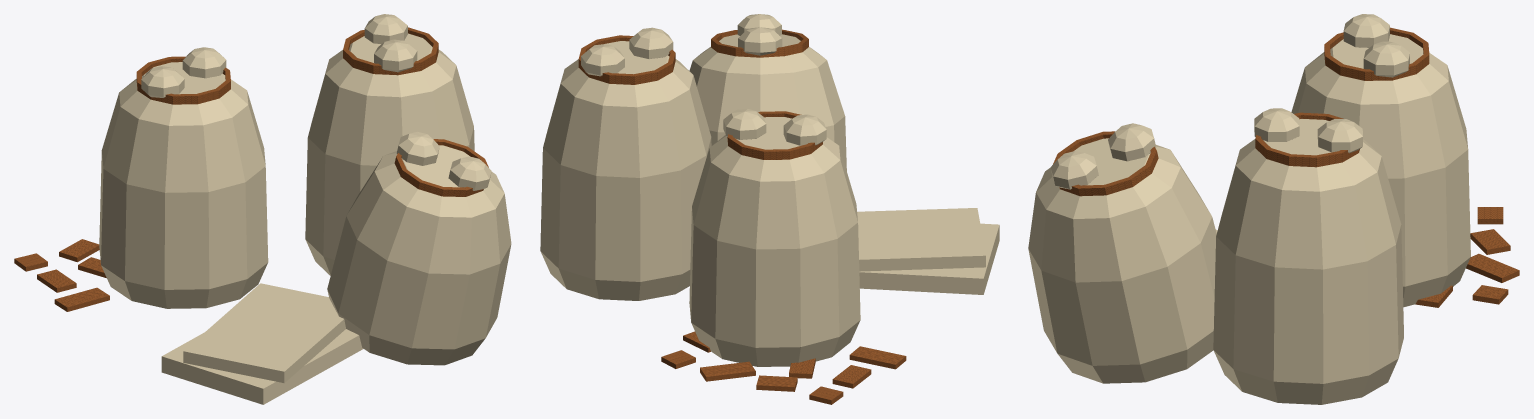
File: distillery-and-bonded-warehouse-grain-sacks-b5e3e1b8__38671.glb
3 views of the same model, side by side, from view 1: azimuth 30°, elevation 25°; view 2: azimuth 150°, elevation 25°; view 3: azimuth 270°, elevation 25° (orthographic). The views are drawn at different scales.
Parts seen in each view (by area): view 1: grain-sacks-hessian, grain-sacks-timber; view 2: grain-sacks-hessian, grain-sacks-timber; view 3: grain-sacks-hessian, grain-sacks-timber.
Boxes of the visible parts, x1,y1,x2,y2 form: grain-sacks-hessian: (99,14,511,404); grain-sacks-timber: (14,27,488,311); grain-sacks-hessian: (540,14,999,366); grain-sacks-timber: (578,29,906,404); grain-sacks-hessian: (1028,14,1470,404); grain-sacks-timber: (1053,27,1519,307).
Size of the model in its own units: 1.7 by 1.05 by 1.73.
Materials: 2 (1 with a texture image).
